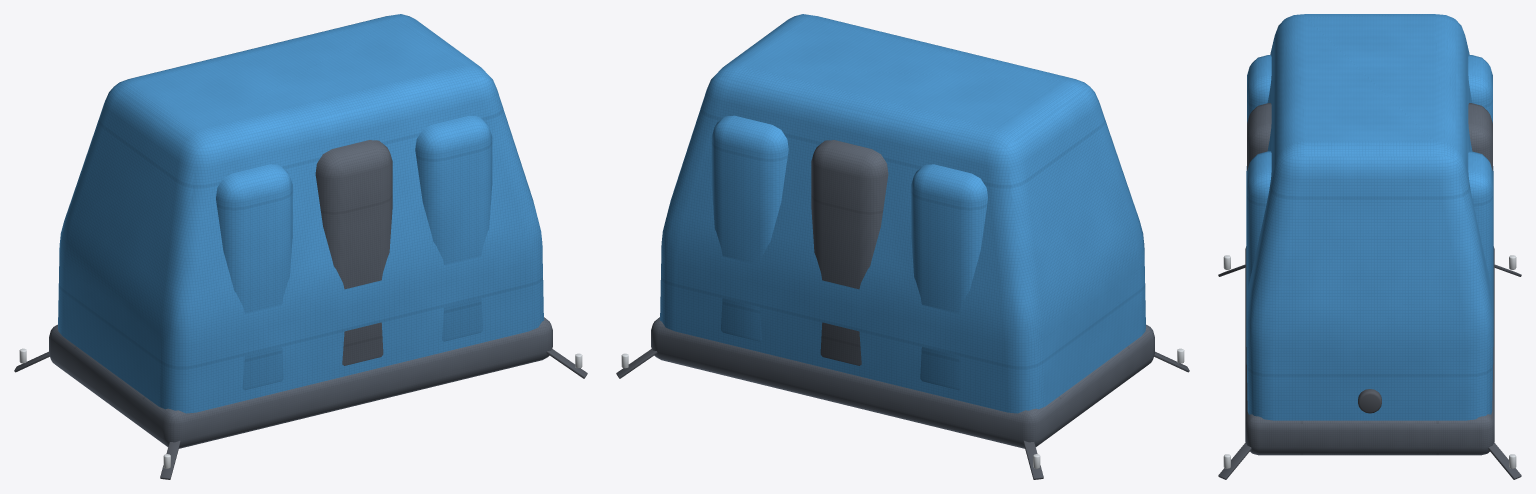
File: bunker_temple_blue.glb
3 renders of one model, left to right at view 1: azimuth 30°, elevation 25°; view 2: azimuth 150°, elevation 25°; view 3: azimuth 270°, elevation 25°, orthographic.
Parts seen in each view (by area): view 1: TempleMain, TempleSkirt, TempleRib_0.75, TempleRib_0.00, TempleRib_-0.75; view 2: TempleMain, TempleSkirt, TempleRib_0.75, TempleRib_0.00, TempleRib_-0.75; view 3: TempleMain, TempleSkirt, TempleRib_0.75, TempleRib_-0.75, TempleRib_0.00, AirValve, Strap_1, Strap_2.
Boxes of the visible parts, <box> form: TempleMain: <box>58,14,543,413</box>; TempleSkirt: <box>49,317,552,448</box>; TempleRib_0.75: <box>415,115,492,341</box>; TempleRib_0.00: <box>315,140,392,365</box>; TempleRib_-0.75: <box>216,164,292,390</box>; TempleMain: <box>660,14,1145,413</box>; TempleSkirt: <box>651,317,1154,448</box>; TempleRib_0.75: <box>711,115,788,341</box>; TempleRib_0.00: <box>811,140,888,365</box>; TempleRib_-0.75: <box>911,164,987,390</box>; TempleMain: <box>1246,14,1493,420</box>; TempleSkirt: <box>1245,246,1494,455</box>; TempleRib_0.75: <box>1247,151,1492,295</box>; TempleRib_-0.75: <box>1247,55,1492,122</box>; TempleRib_0.00: <box>1247,103,1492,170</box>; AirValve: <box>1358,389,1381,413</box>; Strap_1: <box>1218,442,1251,479</box>; Strap_2: <box>1488,442,1521,479</box>.
Size of the model in its own units: 3.22 by 2.16 by 2.
Materials: 5 (3 with a texture image).
